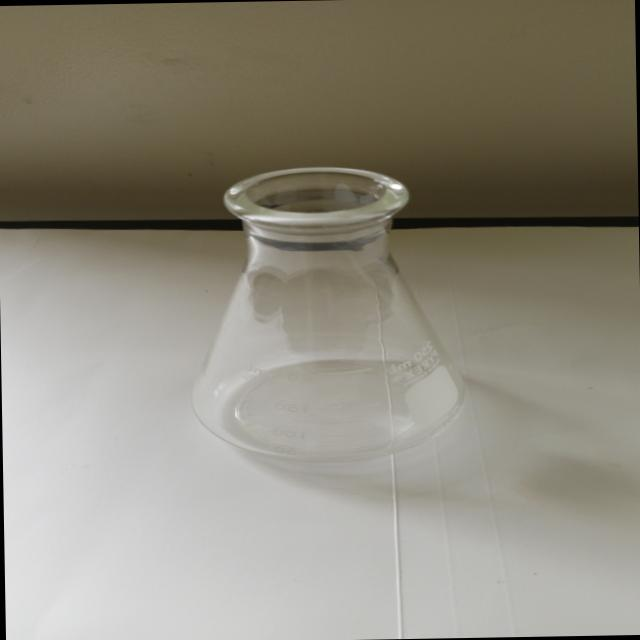erlenmeyer_flask: (176, 160, 468, 471)
